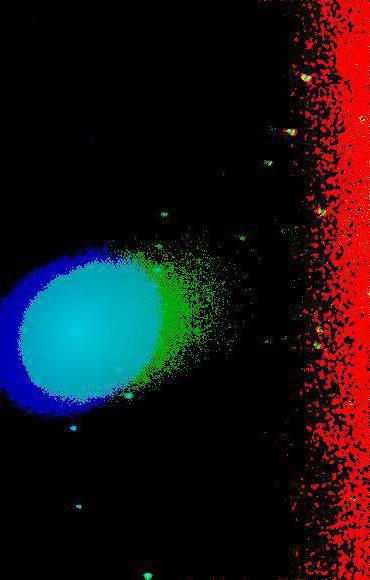star: (134, 366, 164, 396)
